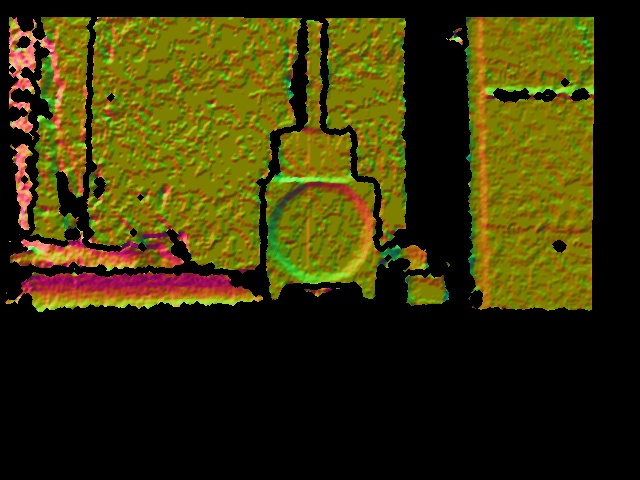station: (271, 18, 356, 177)
